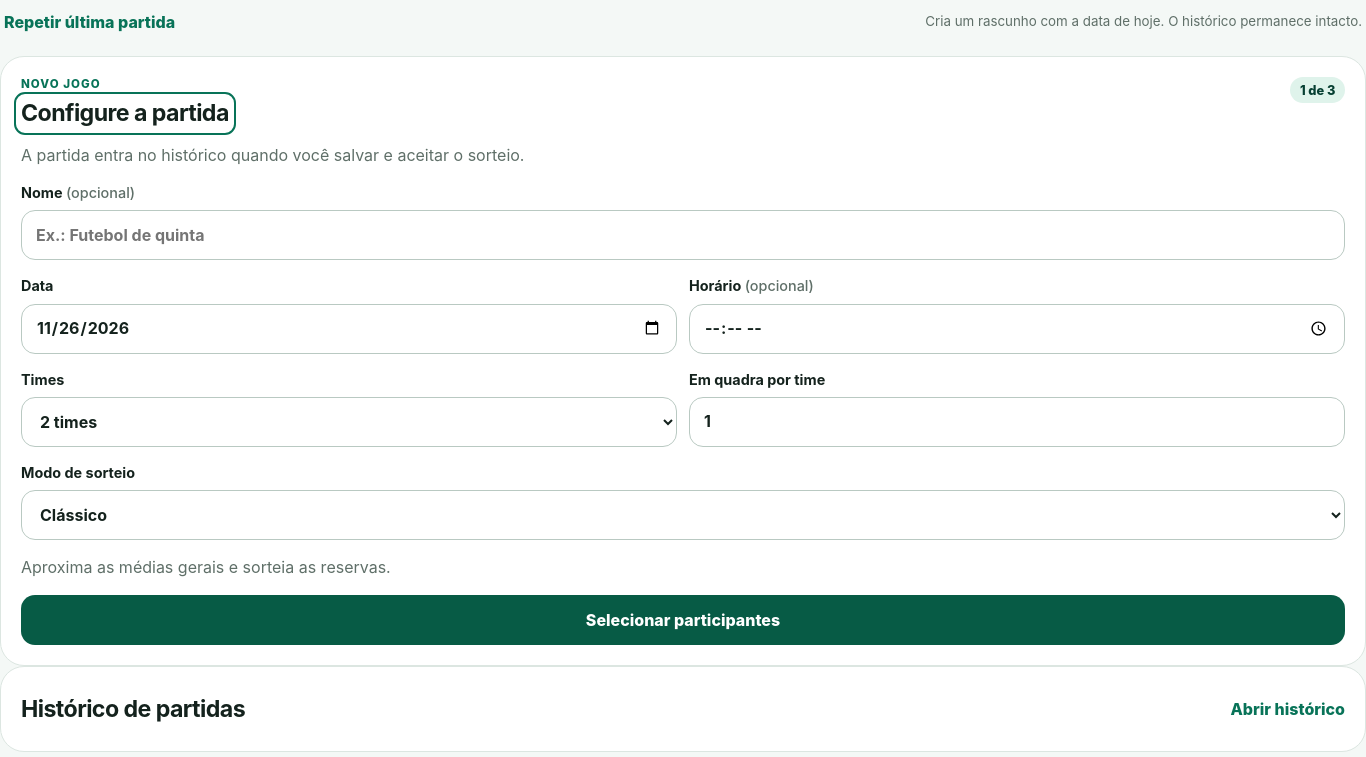
it: histórico e detalhe da Fase 7 › repetir prepara participantes sem sortear/salvar e só grava uma nova identidade após confirmação
This screenshot has width=1366, height=757.
Click the button "Repetir última partida": [90, 22] box left=4, top=0, right=175, bottom=44
(page scrolled)
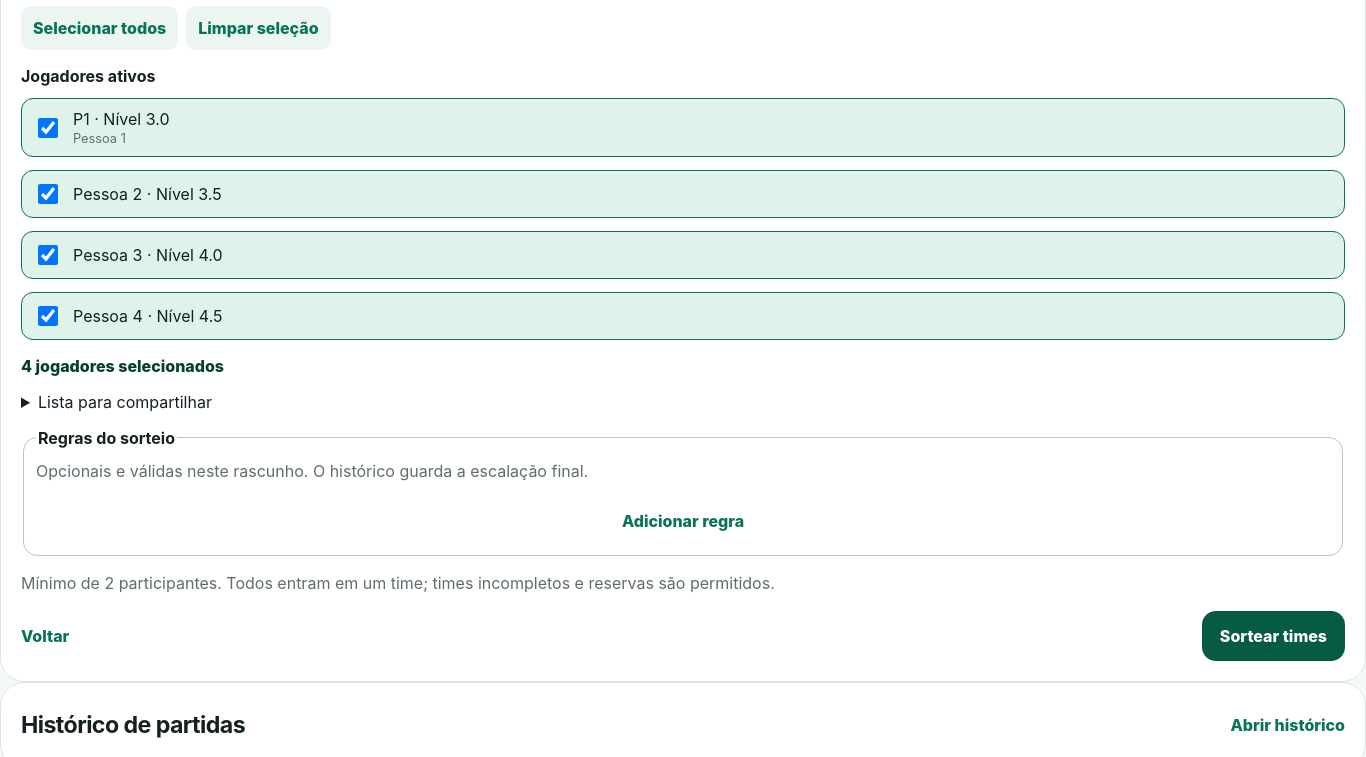
Expected: the text "4 jogadores selecionados" is shown, left=21, top=356, right=224, bottom=376
Click the button "Sortear times": [1273, 636] box left=1202, top=611, right=1345, bottom=661
(page scrolled)
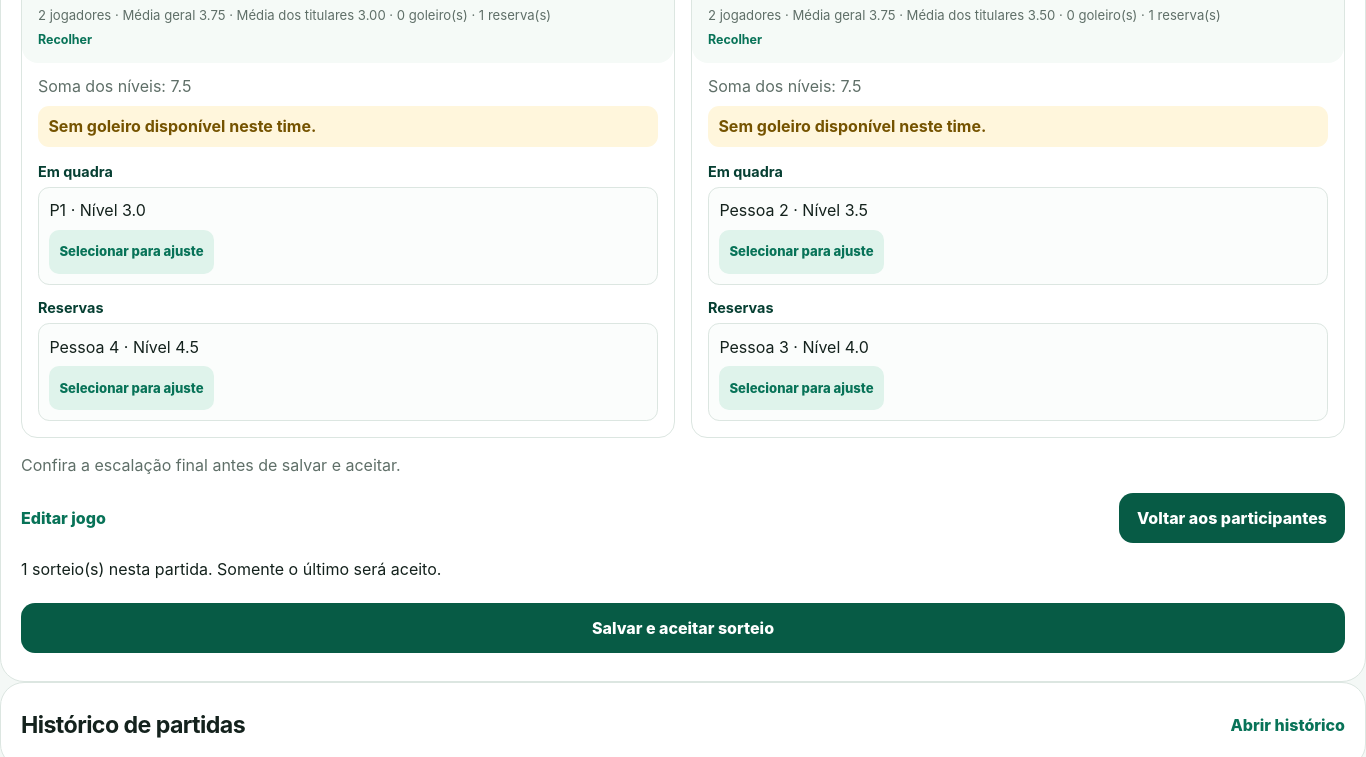
Click the button "Salvar e aceitar sorteio": [683, 628] box left=21, top=603, right=1345, bottom=653
(page scrolled)
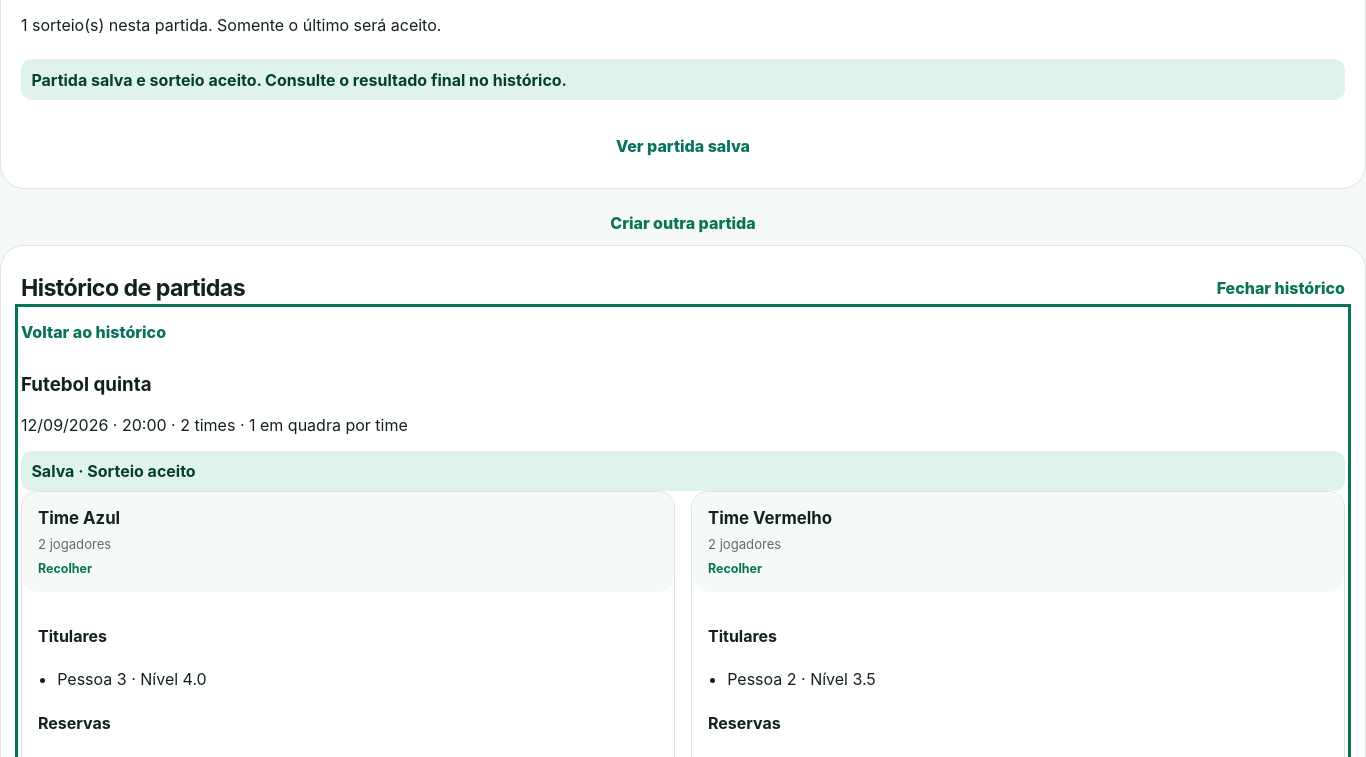
Expected: the heading "Futebol quinta" is shown, left=21, top=373, right=152, bottom=396
